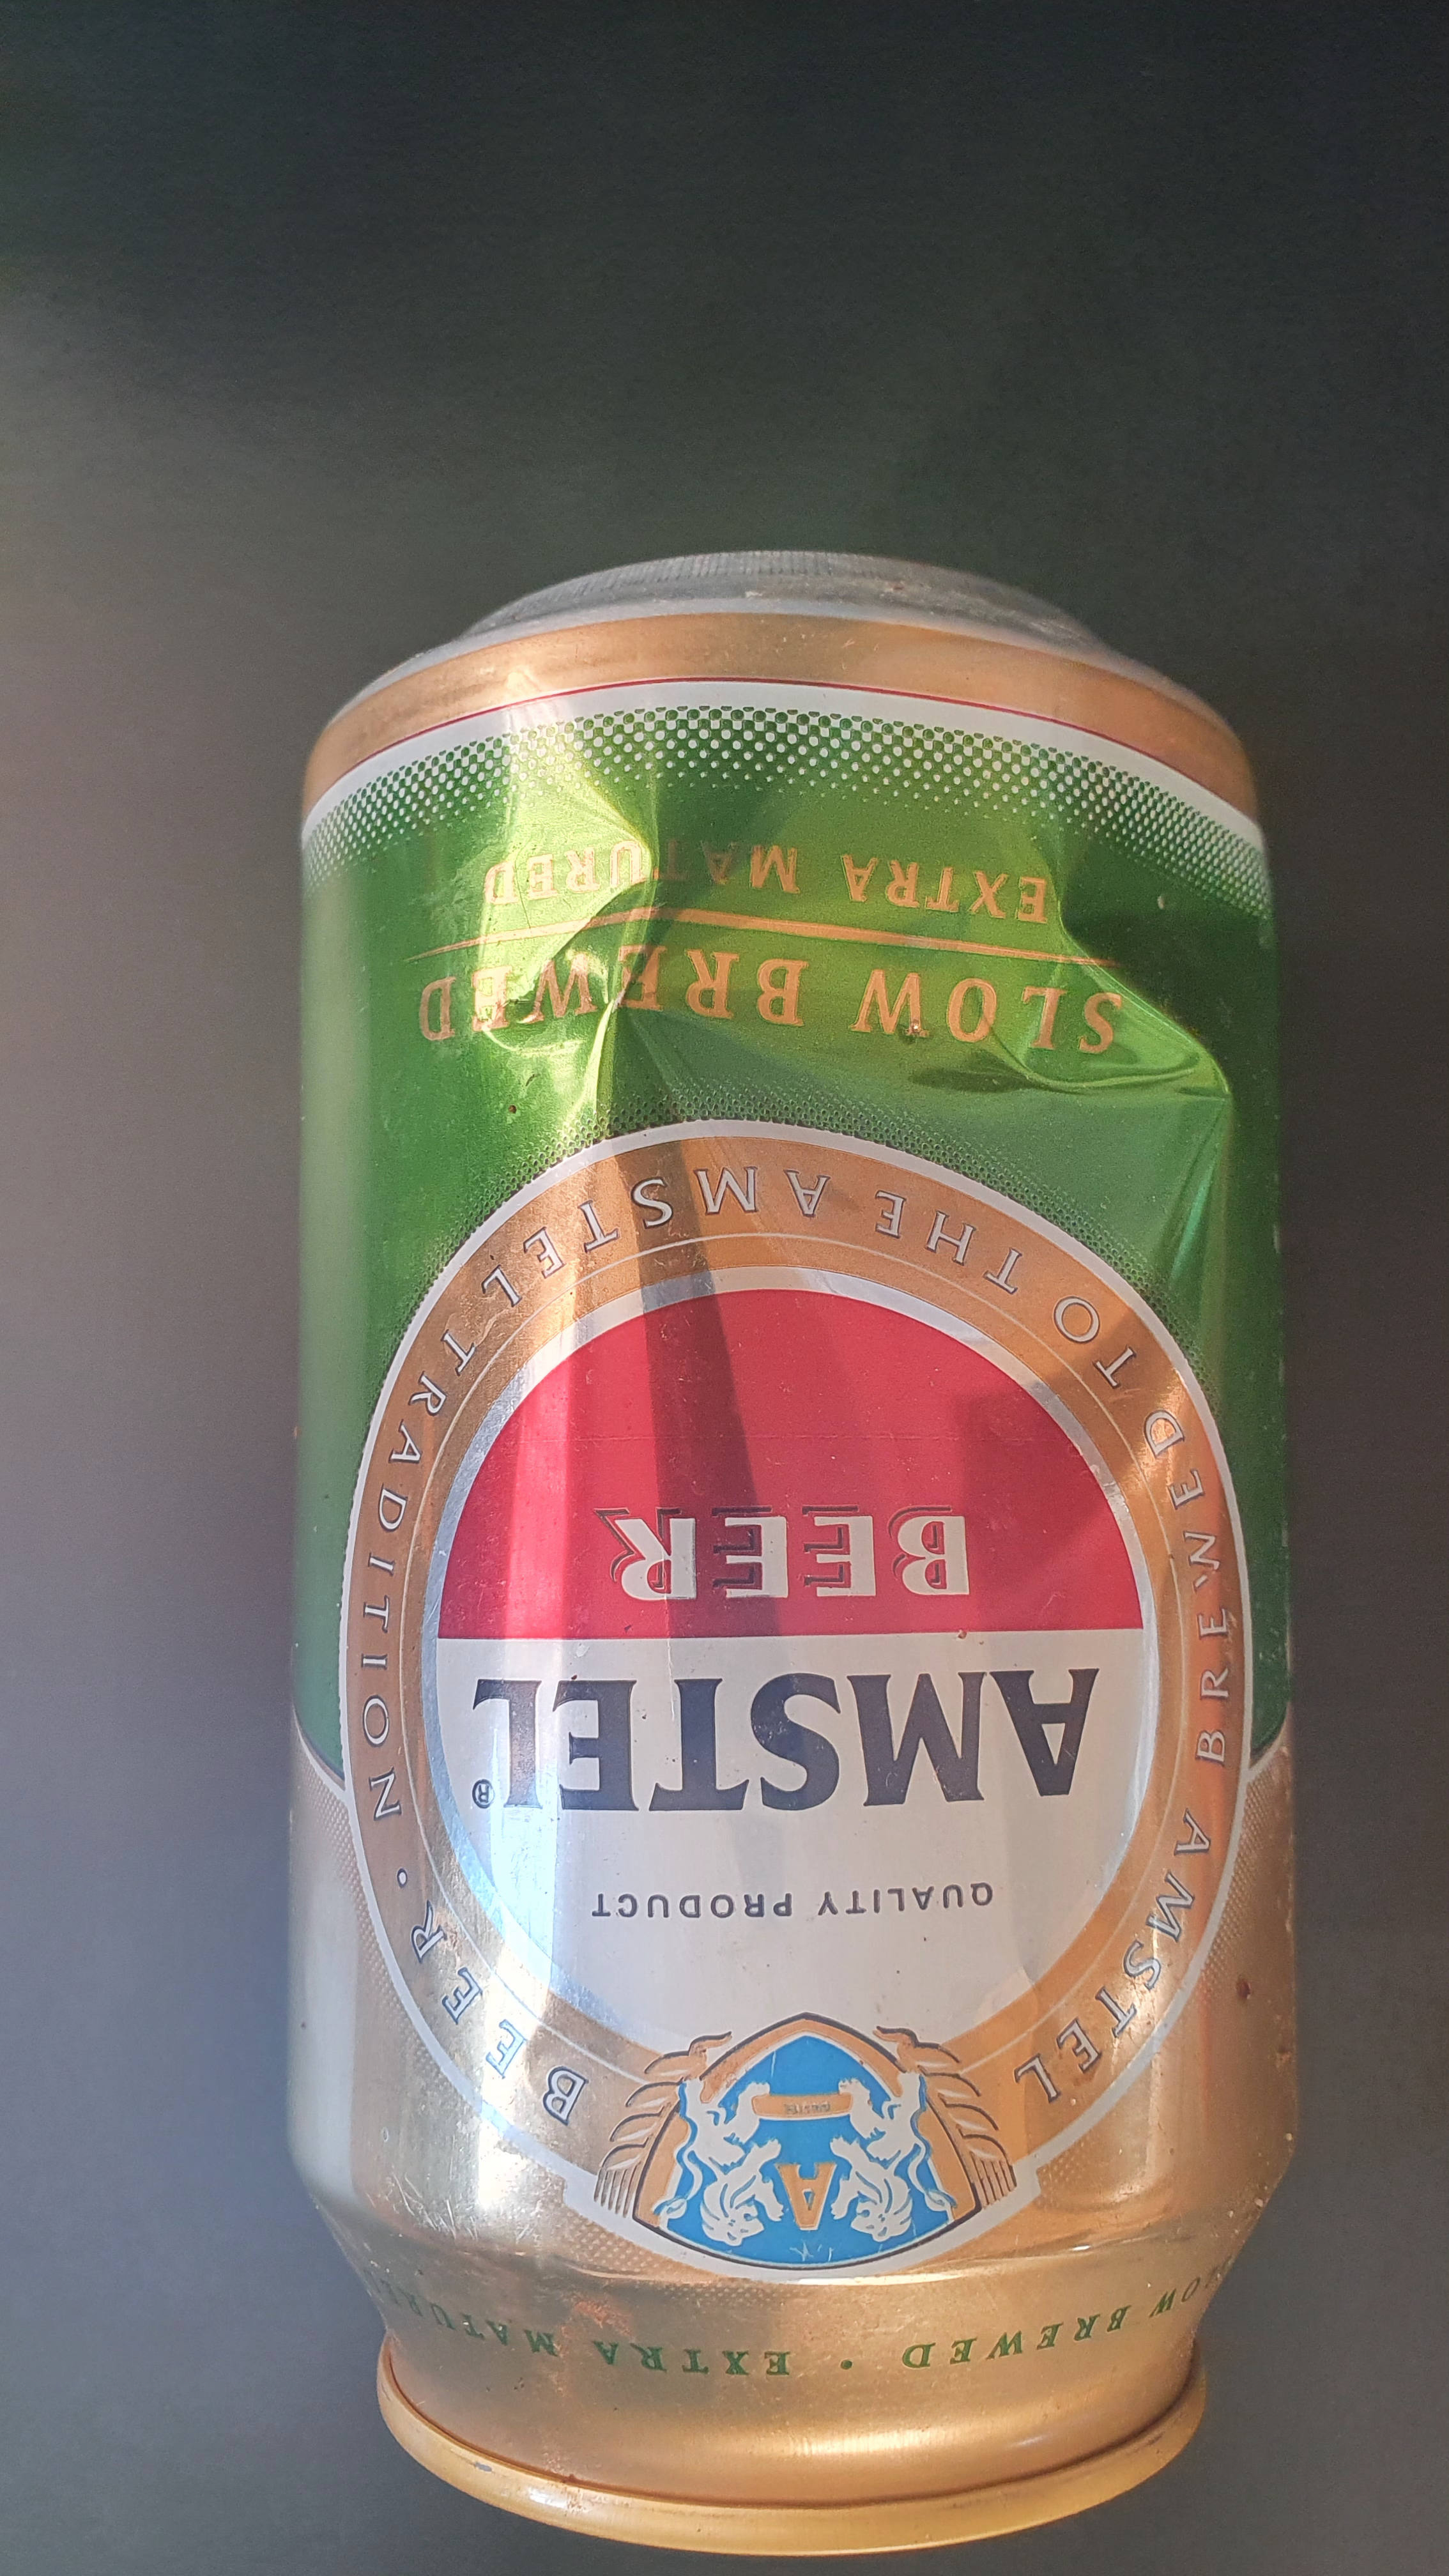metal: (244, 469, 1350, 2560)
